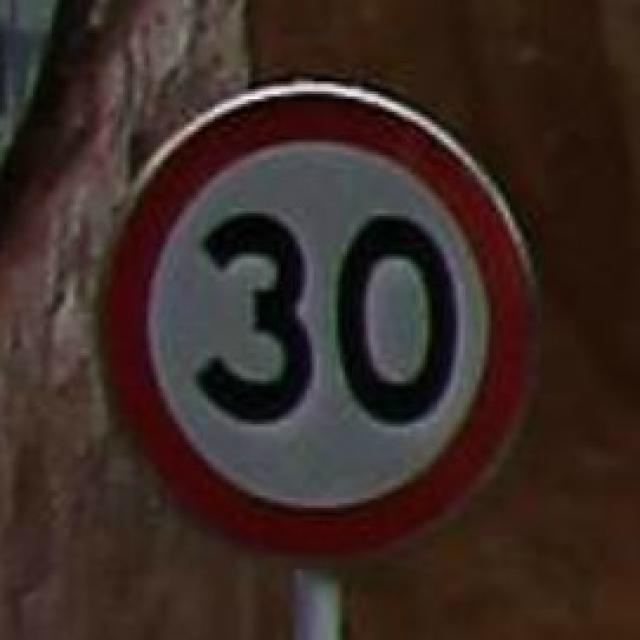Speed Limit -30-: (190, 207, 462, 432)
